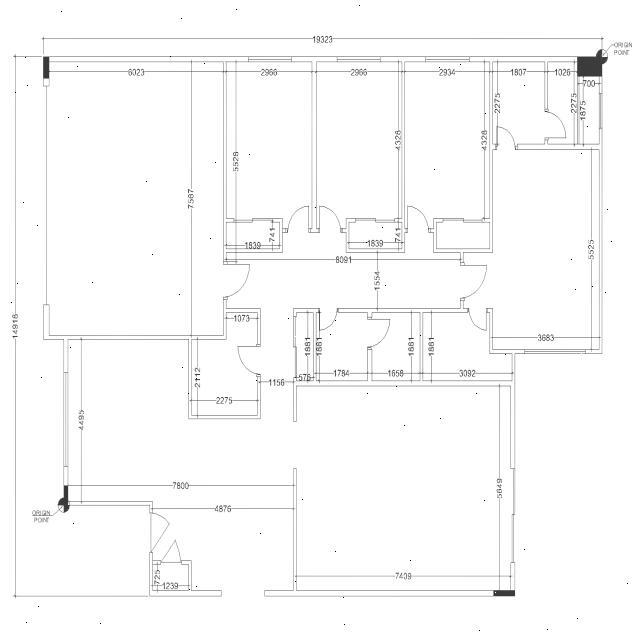Column: (577, 56, 602, 76), (43, 56, 49, 78), (494, 590, 516, 596), (64, 486, 68, 506)
Door: (460, 263, 487, 301), (223, 262, 250, 300), (150, 512, 170, 552), (367, 317, 391, 350), (236, 344, 260, 377), (544, 108, 566, 140), (318, 205, 343, 233), (286, 205, 310, 233), (406, 205, 430, 233), (160, 539, 182, 565), (496, 125, 518, 150), (468, 308, 488, 331), (318, 308, 338, 331)
Sliding Door: (511, 468, 515, 562), (293, 316, 297, 378), (234, 218, 274, 222), (355, 218, 395, 222), (442, 218, 482, 222)
Window: (64, 372, 68, 467), (524, 349, 586, 354), (336, 56, 381, 62), (248, 56, 292, 62), (426, 56, 470, 62), (598, 94, 602, 128)
